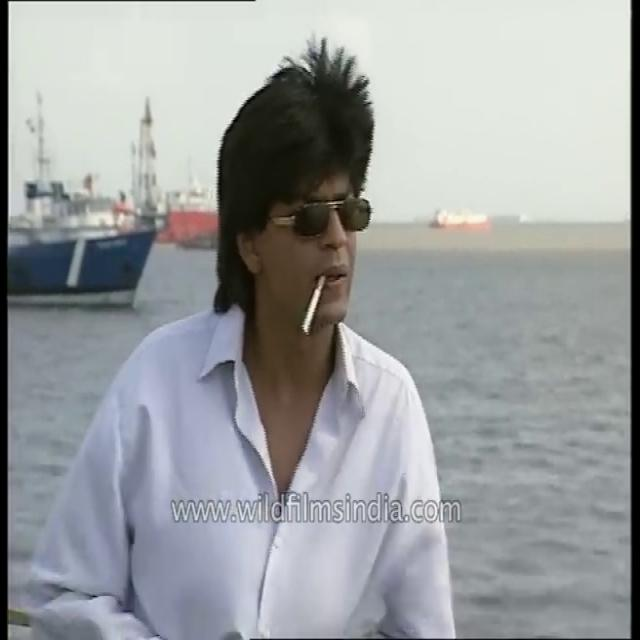Smooking: (290, 263, 328, 335)
